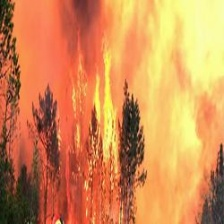fire: (40, 1, 224, 224)
